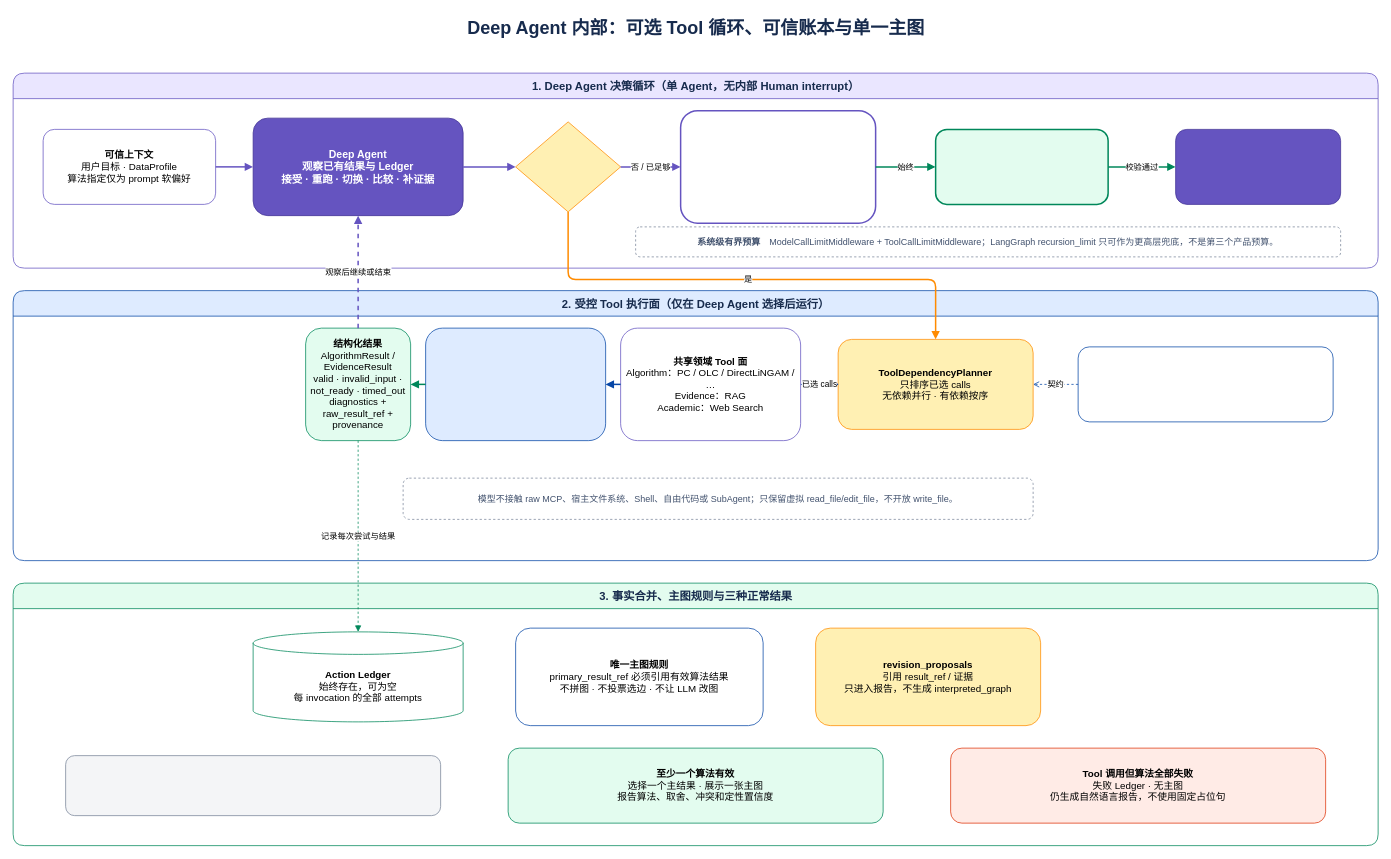
This 1391x859 diagram has some shape labels left out. The centre of each missing label's shape, as x and y in pixels:
AlgorithmSpec + Registry 唯一事实源 schema · requires/produces · binding: [1205,384]
FinalAnalysisDecision primary_result_ref 可为空 取舍 · 冲突 · 建议 confidence + basis: [778,167]
FinalizationGate 只校验，不调用 LLM，不改边 一次修正后仍失败 → degraded 报告: [1021,166]
Report 三种正常结果共同出口: [1258,166]
可信 Adapter / Runtime 身份与前置校验 · 临时预处理 MCP / RAG / Web 执行 格式统一 · 硬契约校验: [515,384]
未调用 Tool 空 Ledger · 无主图 正常解释型报告: [253,785]
需要调用 领域 Tool？: [568,166]
